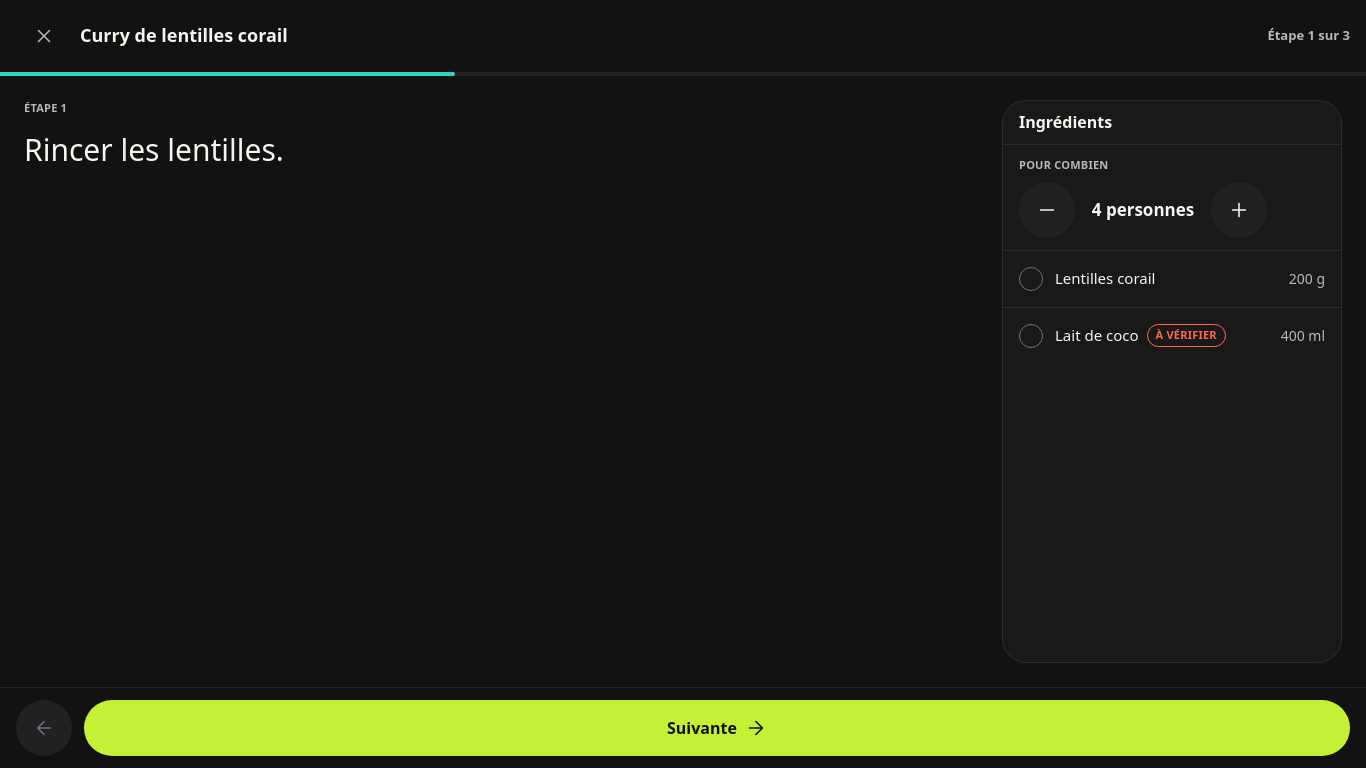
Test case: CookingMode › scales the quantities for tonight without touching the recipe
This screenshot has width=1366, height=768.
Expected: the text with test id "cook-servings" reads "4 personnes", [1092,198,1194,221]
Expected: the text "200 g" is shown, [1289,268,1325,289]
Click the button named "Une portion de plus": (1239, 210) [1211,182,1267,238]
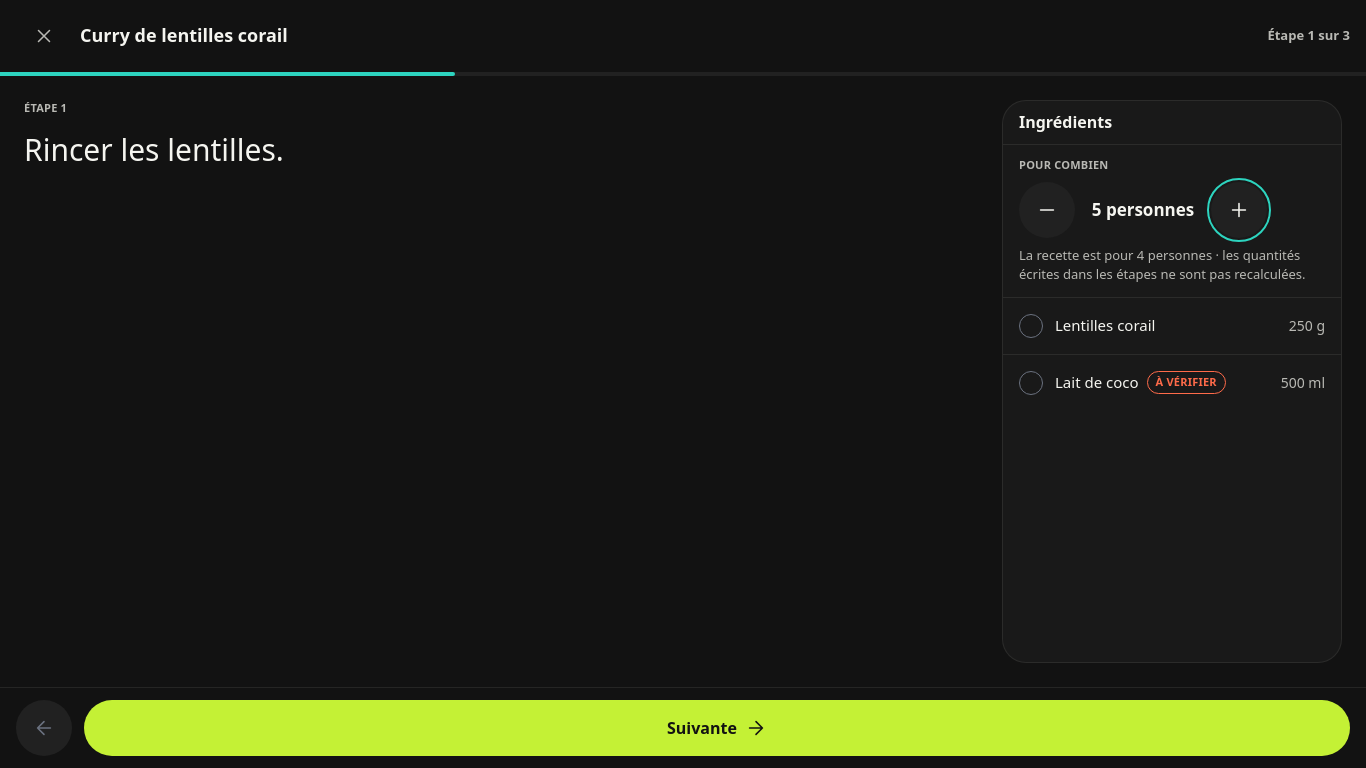
Click the button named "Une portion de plus": (1239, 210) [1211,182,1267,238]
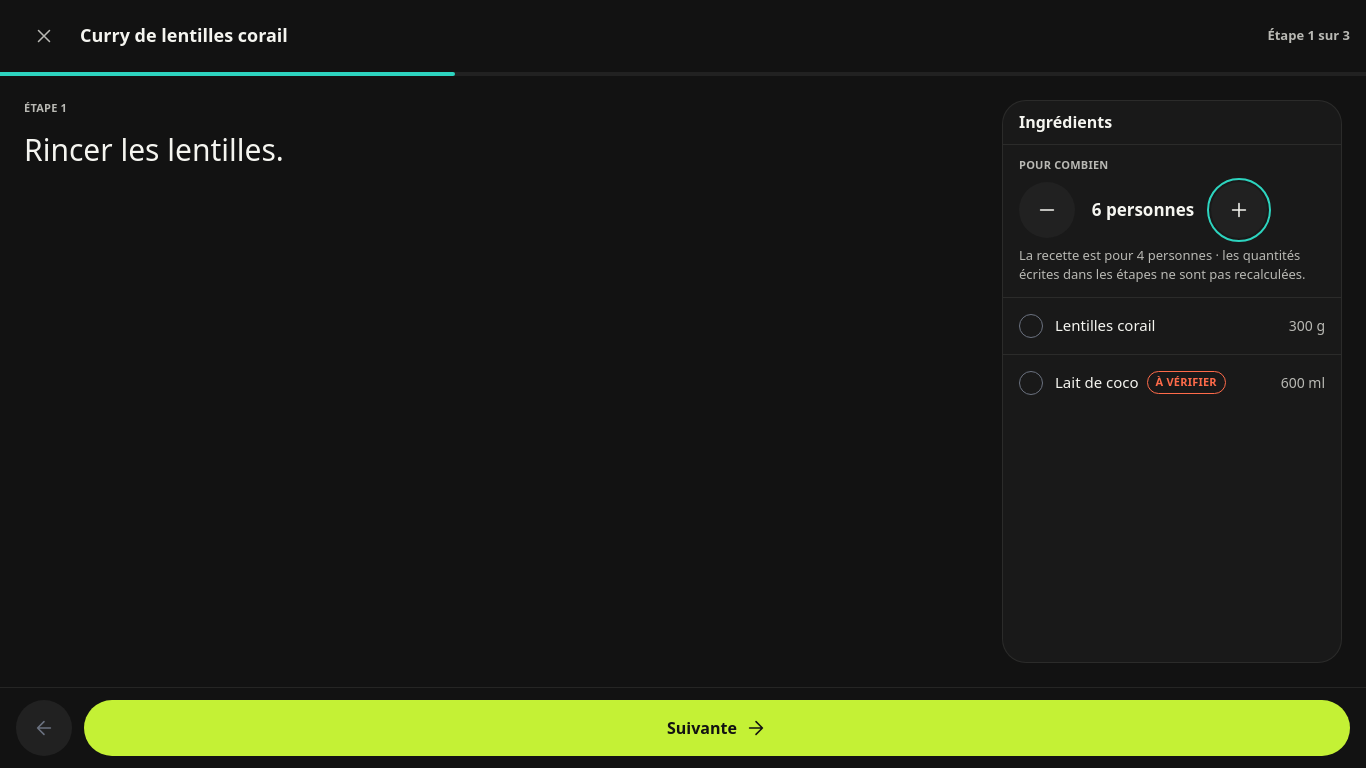
Result: the text with test id "cook-servings" reads "6 personnes" at [1092,198,1194,221]
Result: the text "300 g" is shown at [1289,315,1325,336]
Result: the text "600 ml" is shown at [1281,372,1325,393]
